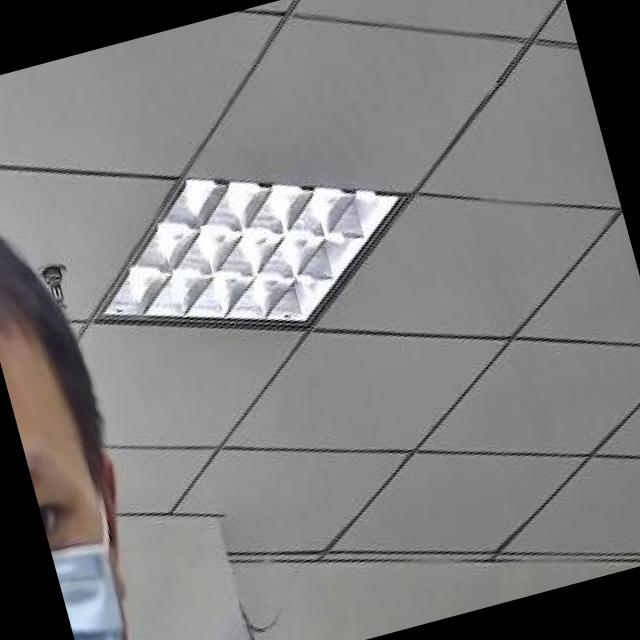Guns: (137, 583, 314, 640)
